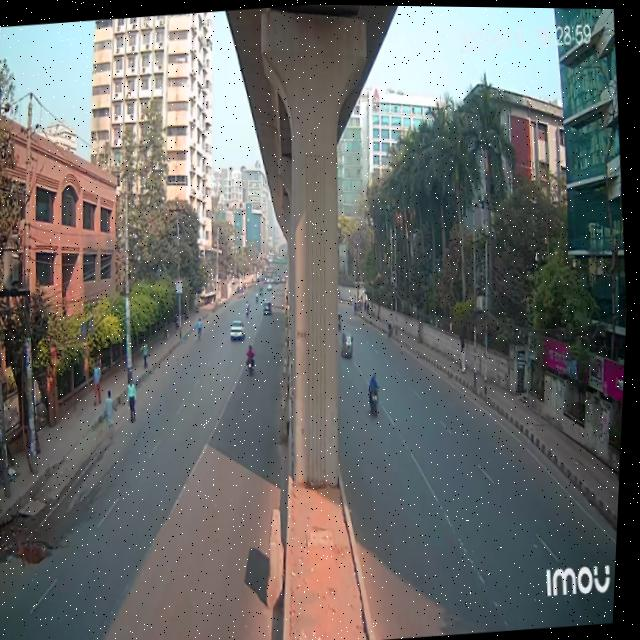cng: (341, 324, 361, 358)
